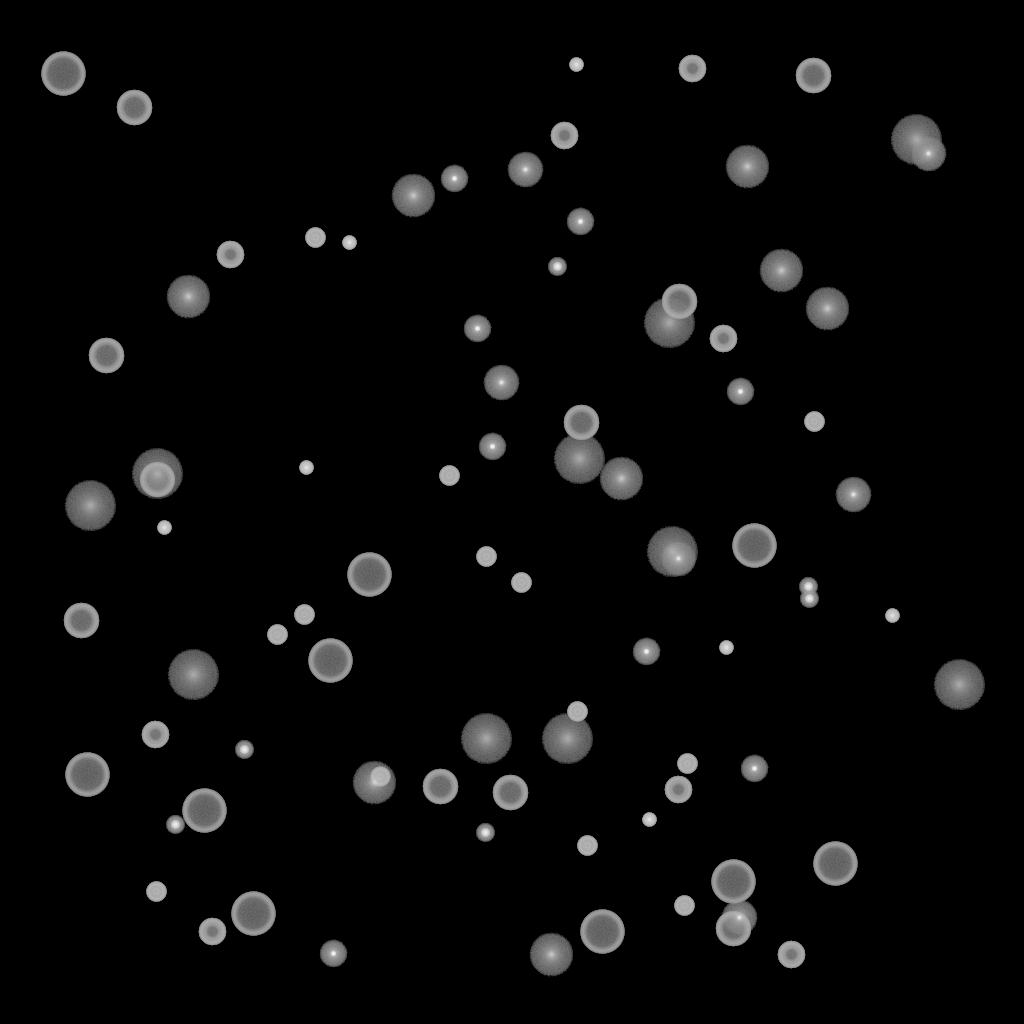depth:-10: (440, 165, 468, 193), (740, 755, 768, 783), (632, 638, 660, 666), (319, 940, 347, 968), (463, 315, 491, 343), (726, 378, 754, 406), (566, 208, 594, 236), (478, 433, 506, 461)
depth:-20: (166, 816, 184, 834), (799, 578, 817, 596), (235, 741, 253, 759), (548, 258, 566, 276), (476, 824, 494, 842), (800, 590, 818, 608)
depth:-30: (885, 609, 899, 623), (719, 641, 733, 655), (299, 461, 313, 475), (157, 521, 171, 535), (342, 236, 356, 250), (569, 58, 583, 72), (642, 813, 656, 827)
depth:-40: (511, 573, 531, 593), (804, 412, 824, 432), (294, 605, 314, 625), (146, 882, 166, 902), (305, 228, 325, 248), (267, 625, 287, 645), (439, 466, 459, 486), (476, 547, 496, 567), (677, 754, 697, 774), (370, 767, 390, 787), (674, 896, 694, 916), (577, 836, 597, 856), (567, 702, 587, 722)
depth:-50: (678, 55, 706, 83), (777, 941, 805, 969), (216, 241, 244, 269), (709, 325, 737, 353), (198, 918, 226, 946), (664, 776, 692, 804), (550, 122, 578, 150), (141, 721, 169, 749)
depth:-60: (563, 405, 599, 441), (116, 90, 152, 126), (492, 775, 528, 811), (795, 58, 831, 94), (63, 603, 99, 639), (661, 284, 697, 320), (88, 338, 124, 374), (422, 769, 458, 805), (139, 462, 175, 498), (715, 911, 751, 947)
depth:-70: (347, 553, 391, 597), (711, 860, 755, 904), (41, 52, 85, 96), (813, 842, 857, 886), (732, 524, 776, 568), (231, 892, 275, 936), (182, 789, 226, 833), (65, 753, 109, 797), (580, 910, 624, 954), (308, 639, 352, 683)
depth:0: (660, 541, 696, 577), (483, 365, 519, 401), (835, 477, 871, 513), (507, 152, 543, 188), (721, 900, 757, 936), (910, 136, 946, 172)
depth:10: (759, 249, 803, 293), (391, 174, 435, 218), (599, 457, 643, 501), (529, 933, 573, 977), (725, 145, 769, 189), (166, 275, 210, 319), (805, 287, 849, 331), (352, 761, 396, 805)
depth:20: (643, 298, 695, 348), (553, 434, 605, 484), (460, 714, 512, 764), (933, 660, 985, 710), (890, 115, 942, 165), (646, 527, 698, 577), (167, 650, 219, 700), (131, 449, 183, 499), (541, 714, 593, 764), (64, 481, 116, 531)
